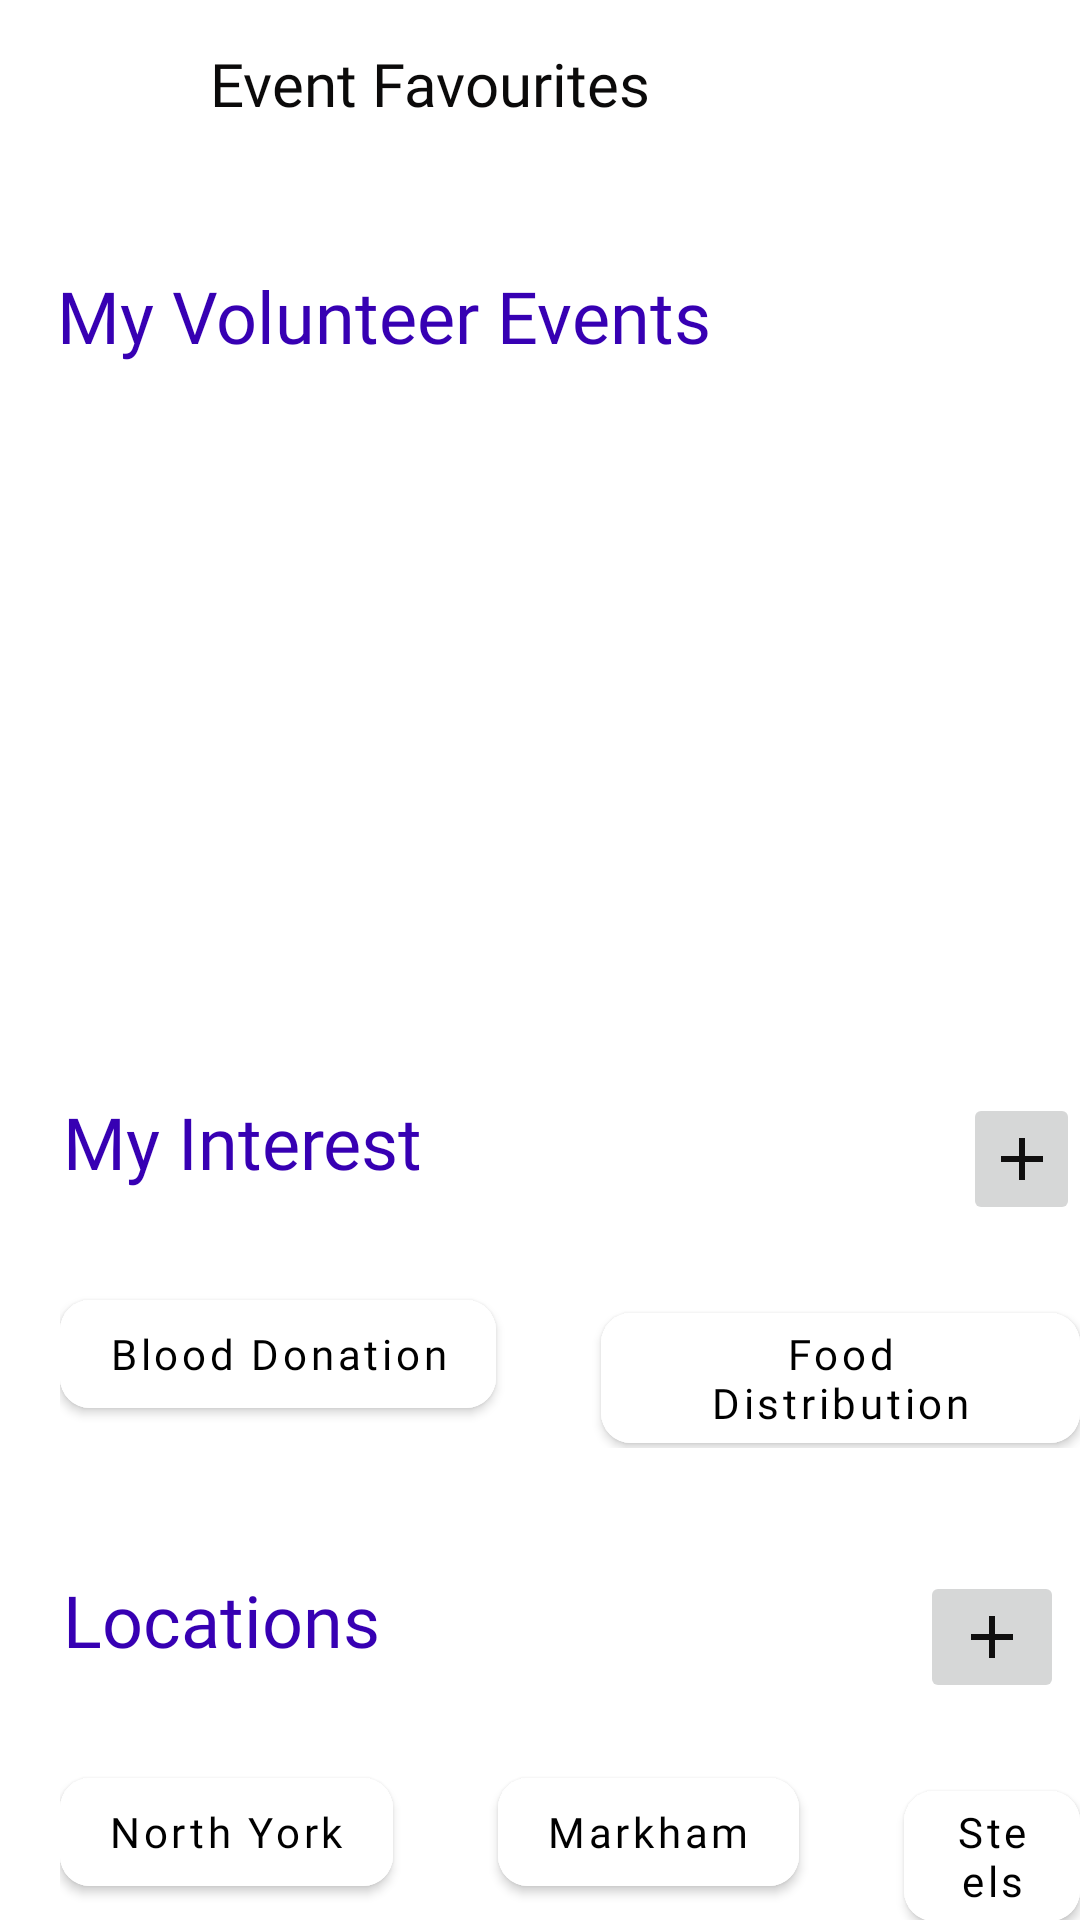

Icons on this 1080px x 1920px Android screen, each with its box as bbox=(x1, y1, x2, y2):
add: bbox=(975, 1111, 1068, 1207), bbox=(932, 1589, 1052, 1685)
